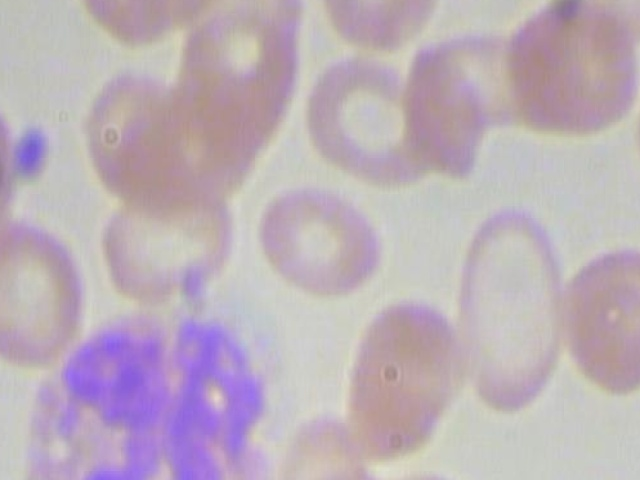Platelets: (5, 114, 58, 184)
RBC: (447, 202, 565, 428), (331, 290, 456, 467), (502, 0, 640, 148), (297, 54, 445, 189), (102, 172, 235, 307), (561, 199, 640, 420), (248, 184, 392, 297), (0, 206, 91, 369), (318, 0, 436, 67), (68, 0, 218, 52), (351, 469, 499, 480)
WBC: (11, 292, 301, 480)
